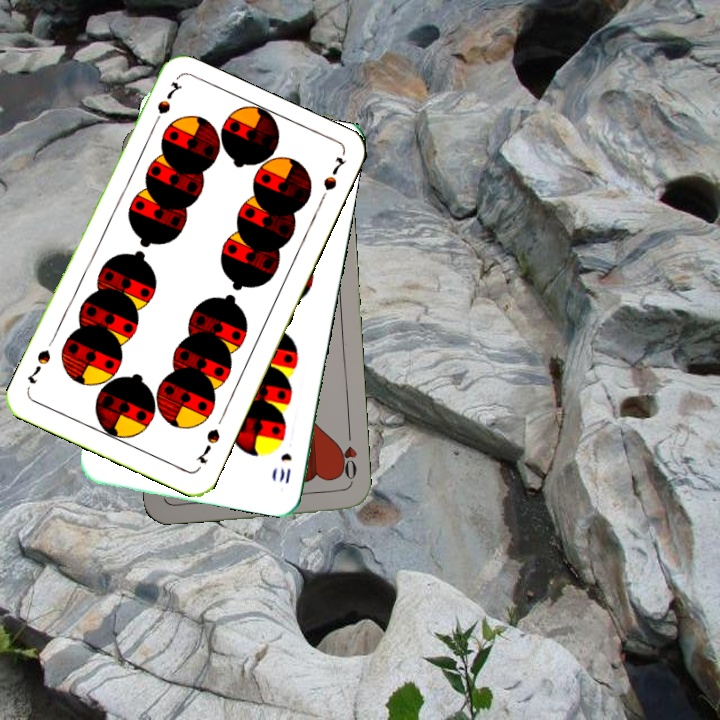HO: (333, 427, 360, 487)
S10: (275, 449, 294, 487)
S7: (147, 77, 184, 132), (191, 424, 223, 467)
